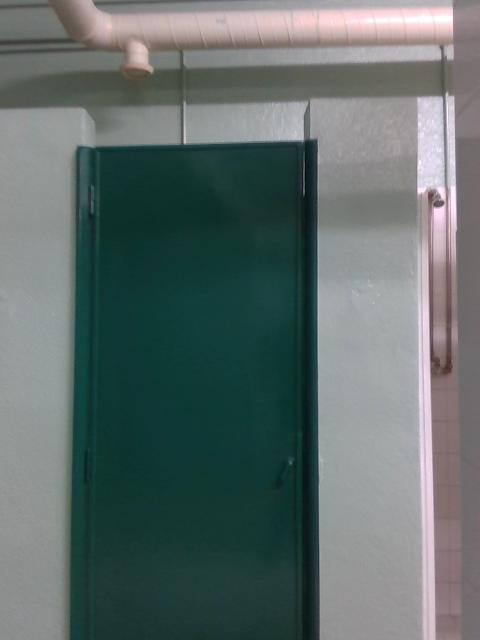closed_door: (71, 132, 321, 639)
